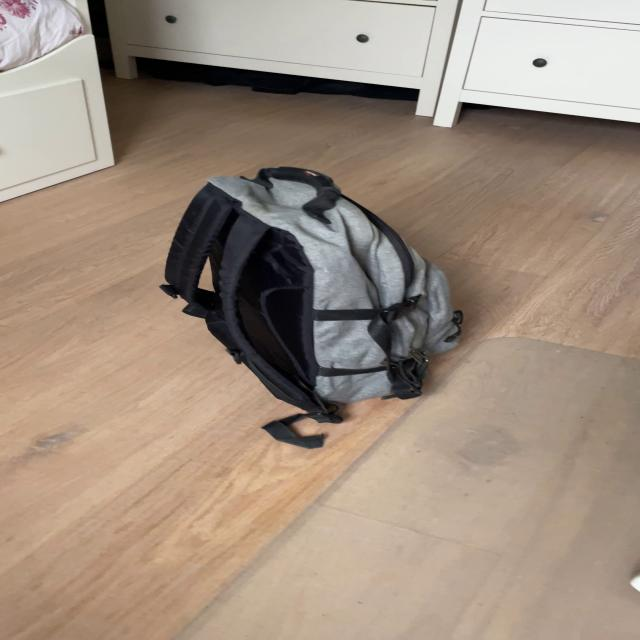backpack: (148, 152, 471, 422)
